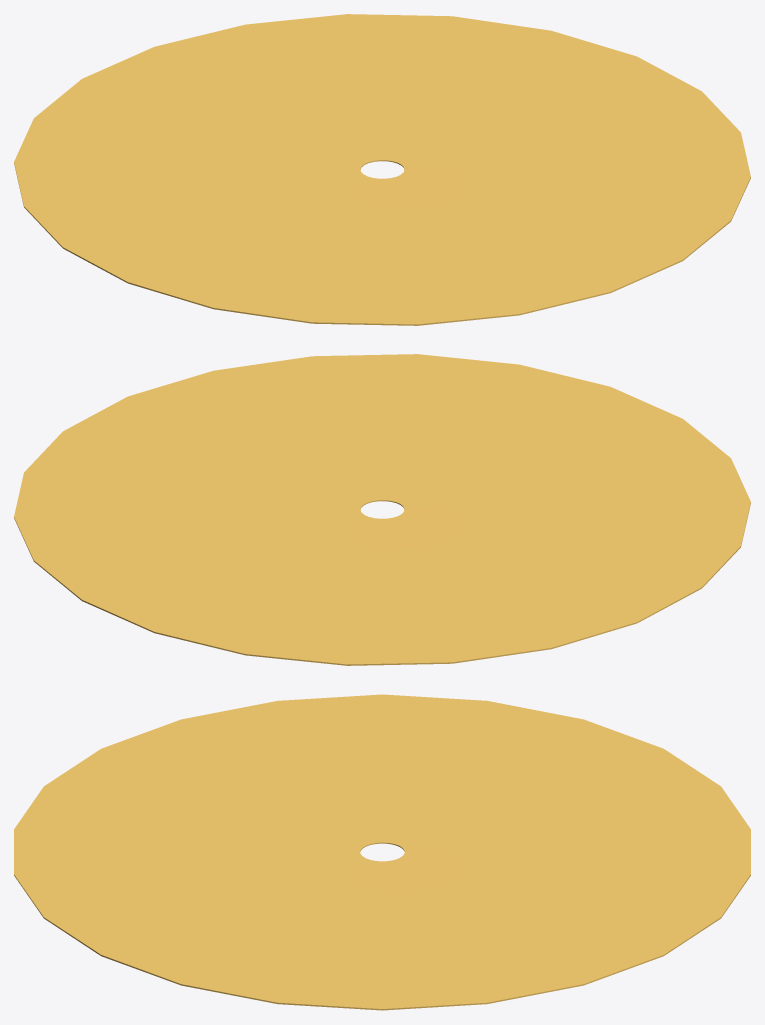
Rendered from Vinyl_From_Unspecified_Student_Game.fbx.
The picture shows the model from 3 angles, top to bottom: view 1: azimuth 30°, elevation 25°; view 2: azimuth 150°, elevation 25°; view 3: azimuth 270°, elevation 25°; orthographic projection.
Visible parts, largest first — view 1: Vinyl; view 2: Vinyl; view 3: Vinyl.
Boxes of the visible parts, <box> form: Vinyl: <box>14,14,750,325</box>; Vinyl: <box>14,354,750,665</box>; Vinyl: <box>14,694,750,1010</box>.
Size of the model in its own units: 24 by 0.05 by 23.76.
